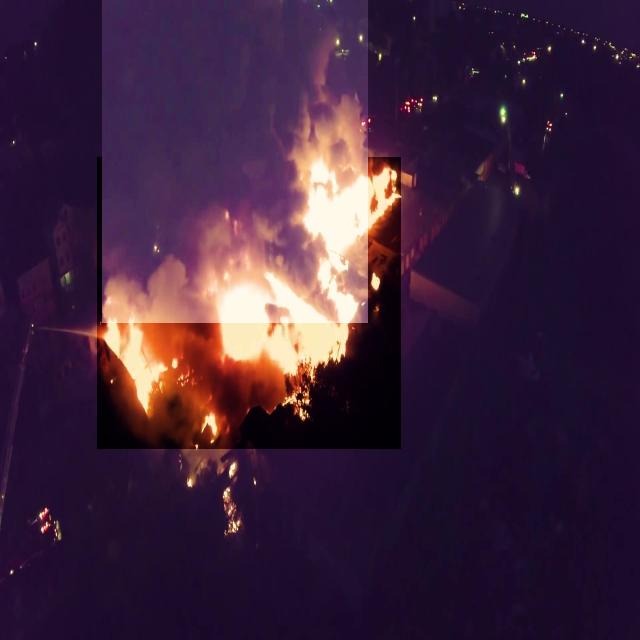Fire: (97, 157, 401, 449)
Smoke: (102, 0, 368, 323)
